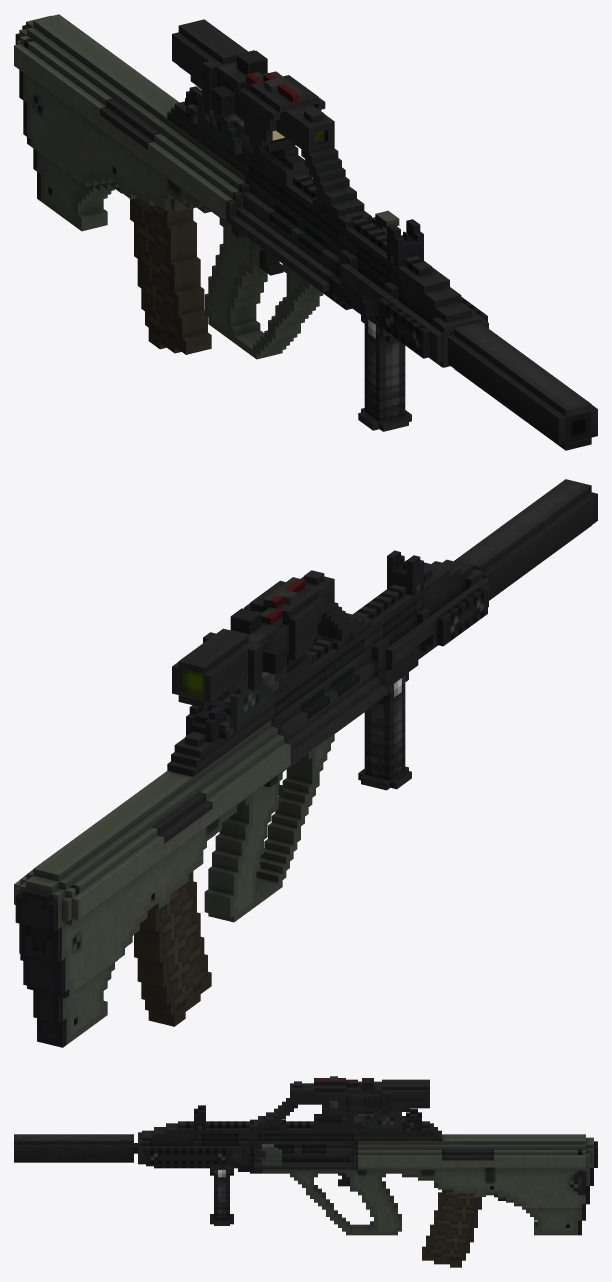
File: RD_AUGA3.glb
3 views of the same model, one above another, from view 1: azimuth 30°, elevation 25°; view 2: azimuth 150°, elevation 25°; view 3: azimuth 270°, elevation 25° (orthographic). The views are drawn at different scales.
Visible parts, largest first — view 1: AUGA3, AUG_A3_CLIP, SILENCER_6X6, AUG_A3_SCOPE2, SCOPE_ACOG, GRIP1, AUG_A3_SCOPE1, SCOPE_EOTECH; view 2: AUGA3, AUG_A3_CLIP, SILENCER_6X6, AUG_A3_SCOPE2, SCOPE_ACOG, GRIP1, AUG_A3_SCOPE1, SCOPE_EOTECH; view 3: AUGA3, SILENCER_6X6, AUG_A3_CLIP, SCOPE_ACOG, AUG_A3_SCOPE2, GRIP1, SCOPE_EOTECH, AUG_A3_SCOPE1, AUG_A3_BOLT.
Boxes of the visible parts, box(x1,y1,x2,y2) form: AUGA3: box(14, 14, 488, 367); AUG_A3_CLIP: box(130, 198, 211, 354); SILENCER_6X6: box(447, 322, 597, 450); AUG_A3_SCOPE2: box(172, 19, 371, 228); SCOPE_ACOG: box(190, 50, 325, 185); GRIP1: box(358, 313, 411, 431); AUG_A3_SCOPE1: box(186, 86, 423, 267); SCOPE_EOTECH: box(198, 90, 260, 154); AUGA3: box(14, 559, 488, 1047); AUG_A3_CLIP: box(134, 871, 211, 1026); SILENCER_6X6: box(454, 479, 597, 600); AUG_A3_SCOPE2: box(172, 570, 371, 707); SCOPE_ACOG: box(203, 577, 325, 700); GRIP1: box(358, 672, 411, 790); AUG_A3_SCOPE1: box(186, 550, 423, 742); SCOPE_EOTECH: box(206, 667, 286, 730); AUGA3: box(134, 1121, 597, 1235); SILENCER_6X6: box(14, 1134, 133, 1162); AUG_A3_CLIP: box(422, 1189, 481, 1267); SCOPE_ACOG: box(314, 1078, 409, 1129); AUG_A3_SCOPE2: box(250, 1076, 429, 1129); GRIP1: box(210, 1166, 233, 1225); SCOPE_EOTECH: box(342, 1110, 401, 1131); AUG_A3_SCOPE1: box(194, 1105, 421, 1131); AUG_A3_BOLT: box(262, 1144, 281, 1165).
Bounding box in the file's own units: 0.1279 × 0.5018 × 1.44.
7 materials, 7 textured.
